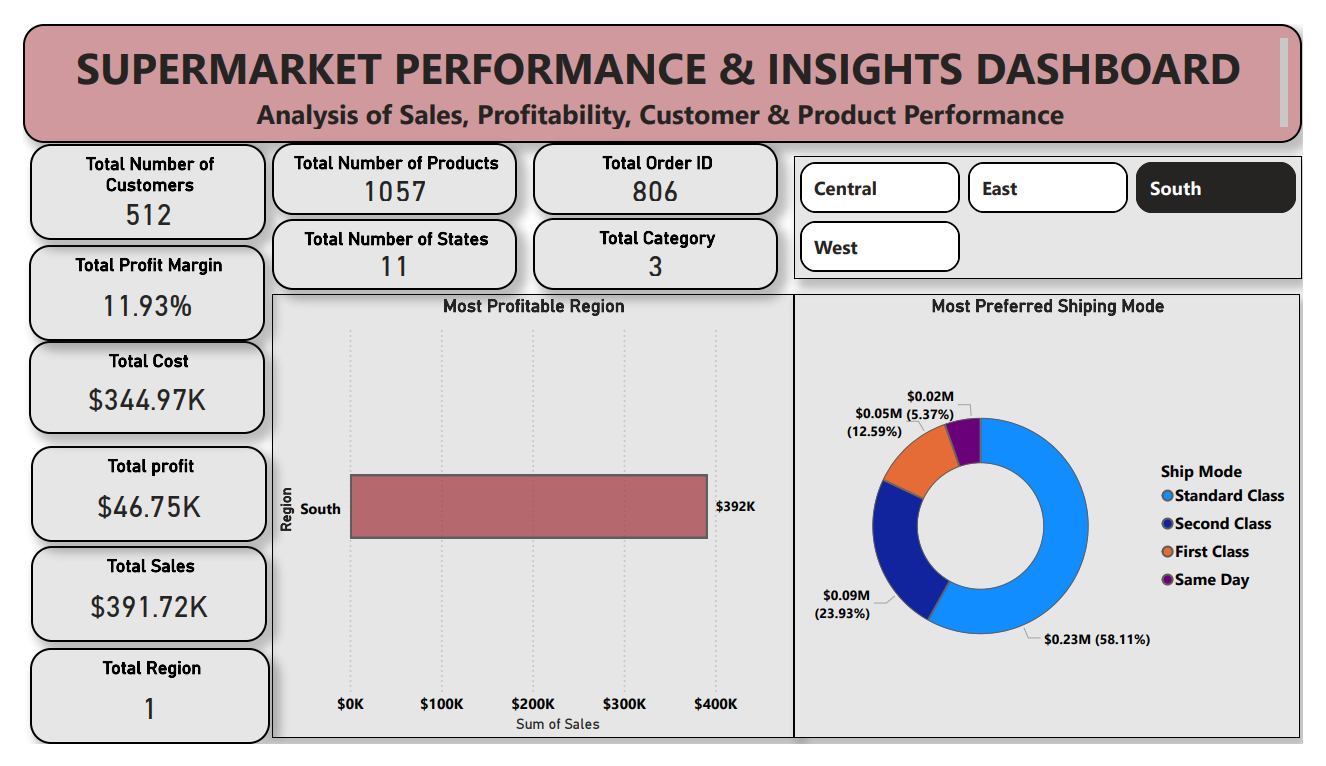

What the dashboard file says about the page in this screenshot:
{"tool":"powerbi","page":{"name":"Page 4","canvas":[1280,720],"ordinal":3},"visuals":[{"type":"textbox","box":[0,0,1279.4,119.1],"z":0},{"type":"clusteredBarChart","title":"Most Profitable Region","fields":{"Category":["Sample - Superstore excel cleaned.Region"],"Y":["Sum(Sample - Superstore excel cleaned.Sales)"]},"box":[250,270,520,443.3],"z":1000},{"type":"donutChart","title":"Most Preferred Shiping Mode","fields":{"Category":["Sample - Superstore excel cleaned.Ship Mode"],"Y":["Sum(Sample - Superstore excel cleaned.Sales)"]},"box":[771,270.2,506.5,444.1],"z":2000},{"type":"advancedSlicerVisual","fields":{"Values":["Sample - Superstore excel cleaned.Region"]},"box":[771,132.3,508.4,122.8],"z":3000},{"type":"card","title":"Total Sales","fields":{"Values":["Sum(Sample - Superstore excel cleaned.Sales)"]},"box":[7.6,521.6,236.2,96.4],"z":4000},{"type":"card","title":"Total Region","fields":{"Values":["Count(Sample - Superstore excel cleaned.Region)"]},"box":[7,623.6,240,96.4],"z":5000},{"type":"card","title":"Total profit","fields":{"Values":["Sum(Sample - Superstore excel cleaned.Profit)"]},"box":[7.6,422,236.2,96.4],"z":6000},{"type":"card","title":"Total Cost","fields":{"Values":["Sample - Superstore excel cleaned.Total Cost"]},"box":[5.7,317.5,236.2,92.6],"z":7000},{"type":"card","title":"Total Profit Margin","fields":{"Values":["Sample - Superstore excel cleaned.Profit Margin"]},"box":[5.7,221.1,236.2,96.4],"z":8000},{"type":"card","title":"Total Number of Customers","fields":{"Values":["Count(Sample - Superstore excel cleaned.Customer ID)"]},"box":[7,120,236.2,96.4],"z":9000},{"type":"card","title":"Total Number of Products","fields":{"Values":["Count(Sample - Superstore excel cleaned.Product ID)"]},"box":[249.5,119.1,245,72],"z":10000},{"type":"card","title":"Total Number of States","fields":{"Values":["Count(Sample - Superstore excel cleaned.State)"]},"box":[249.5,194.6,245,71.8],"z":11000},{"type":"card","title":"Total Order ID","fields":{"Values":["Count(Sample - Superstore excel cleaned.Order ID)"]},"box":[510.2,119.1,245,71.8],"z":12000},{"type":"card","title":"Total Category","fields":{"Values":["Count(Sample - Superstore excel cleaned.Category)"]},"box":[510.2,194,245,71.8],"z":13000}]}

Visuals, with their boxes in screenshot pixels (x1, y1, x2, y2), scaled from the page's 1280x720 canvas onto the 1326x766 screenshot:
textbox: bbox=(0, 0, 1325, 127)
"Most Profitable Region" clusteredBarChart: bbox=(259, 287, 798, 759)
"Most Preferred Shiping Mode" donutChart: bbox=(799, 287, 1323, 760)
advancedSlicerVisual - Sample - Superstore excel cleaned.Region: bbox=(799, 141, 1325, 271)
"Total Sales" card: bbox=(8, 555, 253, 657)
"Total Region" card: bbox=(7, 663, 256, 765)
"Total profit" card: bbox=(8, 449, 253, 552)
"Total Cost" card: bbox=(6, 338, 251, 436)
"Total Profit Margin" card: bbox=(6, 235, 251, 338)
"Total Number of Customers" card: bbox=(7, 128, 252, 230)
"Total Number of Products" card: bbox=(258, 127, 512, 203)
"Total Number of States" card: bbox=(258, 207, 512, 283)
"Total Order ID" card: bbox=(529, 127, 782, 203)
"Total Category" card: bbox=(529, 206, 782, 283)
